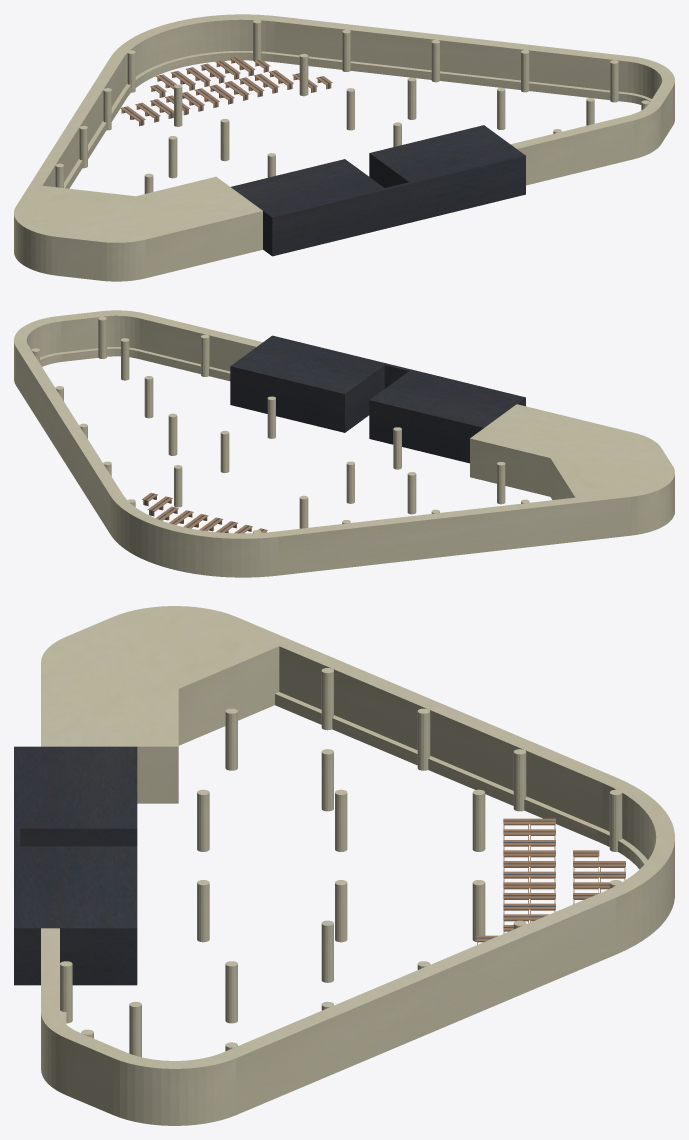
Rendered from wall.obj.
3 renders of one model, top to bottom at view 1: azimuth 30°, elevation 25°; view 2: azimuth 150°, elevation 25°; view 3: azimuth 270°, elevation 25°, orthographic. The views are drawn at different scales.
Parts seen in each view (by area): view 1: 3dSolid; view 2: 3dSolid; view 3: 3dSolid.
Part boxes in pixels (x1,y1,x2,y2): 3dSolid: (14, 14, 674, 281); 3dSolid: (14, 310, 674, 577); 3dSolid: (14, 606, 674, 1125).
Bounding box in the file's own units: 8704 × 500 × 5254.
4 materials, 4 textured.
